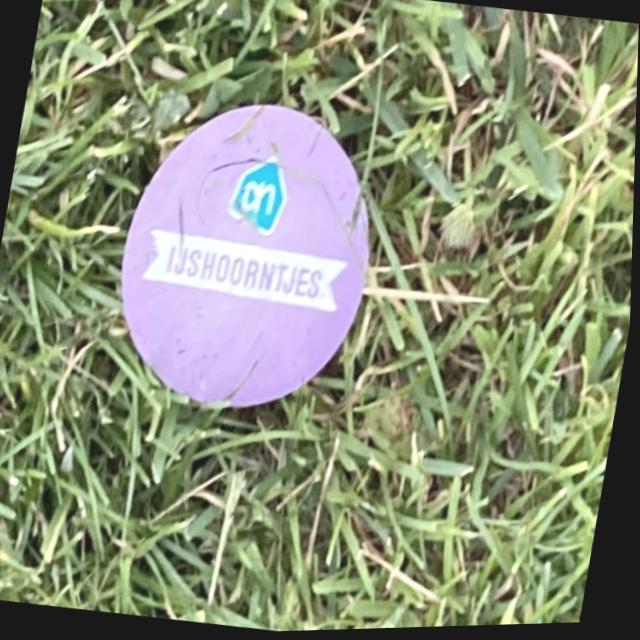Paper: (99, 84, 400, 431)
